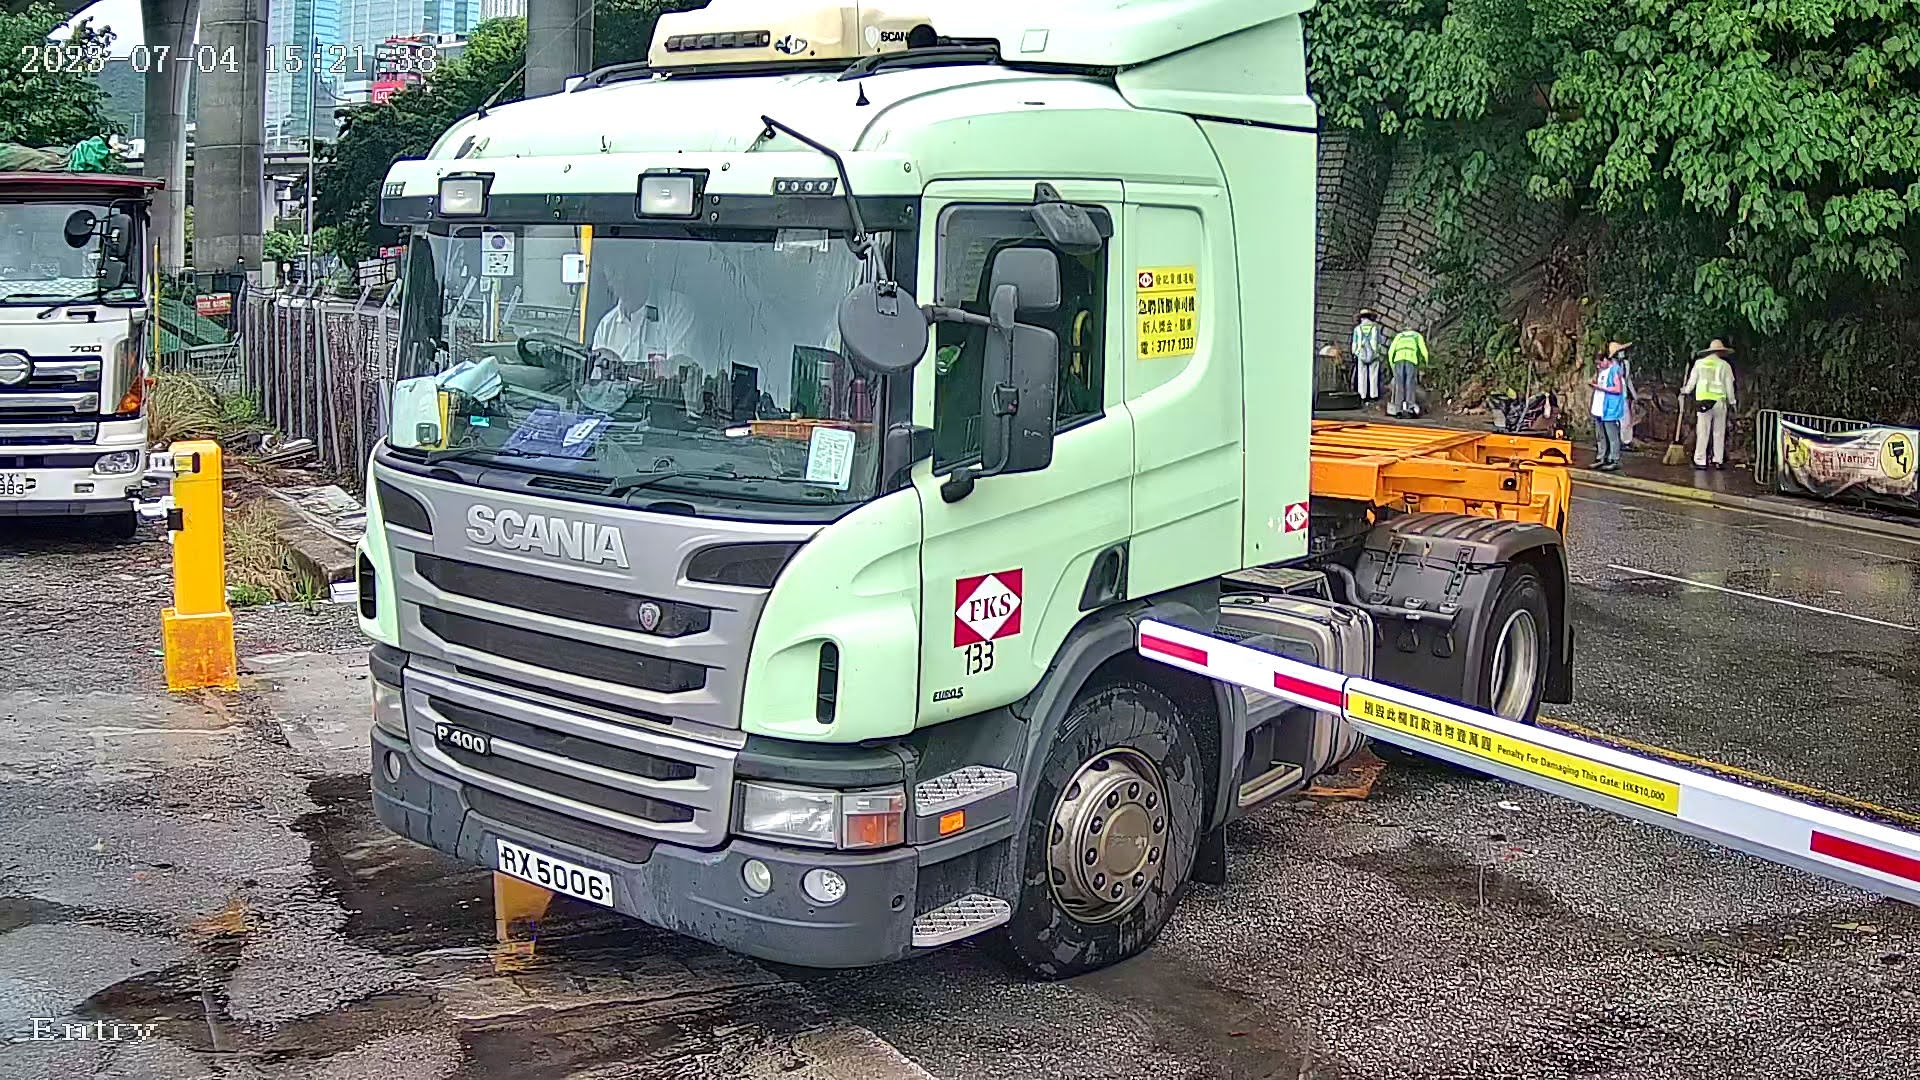truck: (324, 3, 1604, 992)
